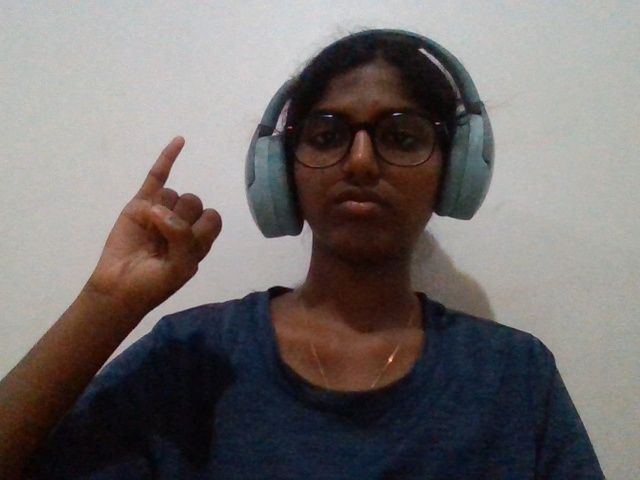I: (79, 122, 226, 336)
